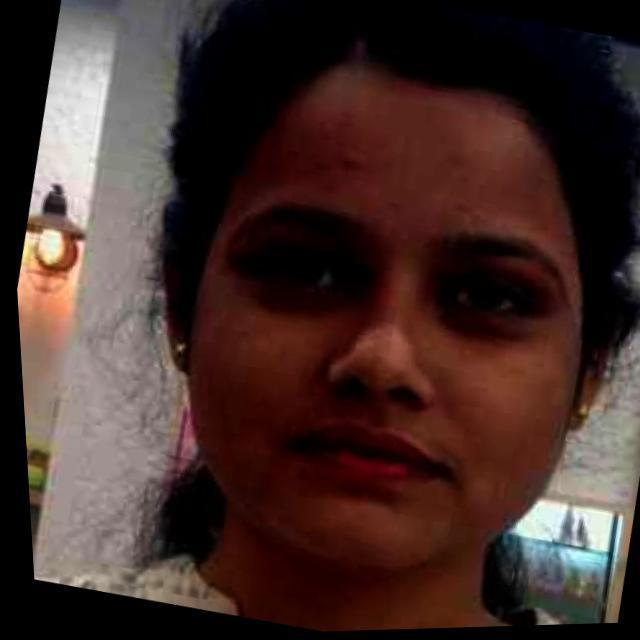puffy_eyes: (433, 312, 526, 339)
